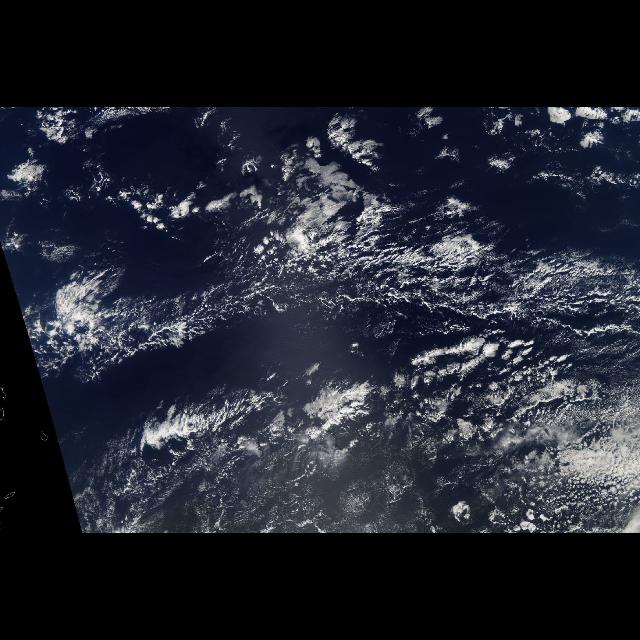Fish: (18, 150, 640, 470)
Sugar: (6, 220, 640, 368), (235, 431, 479, 533)
